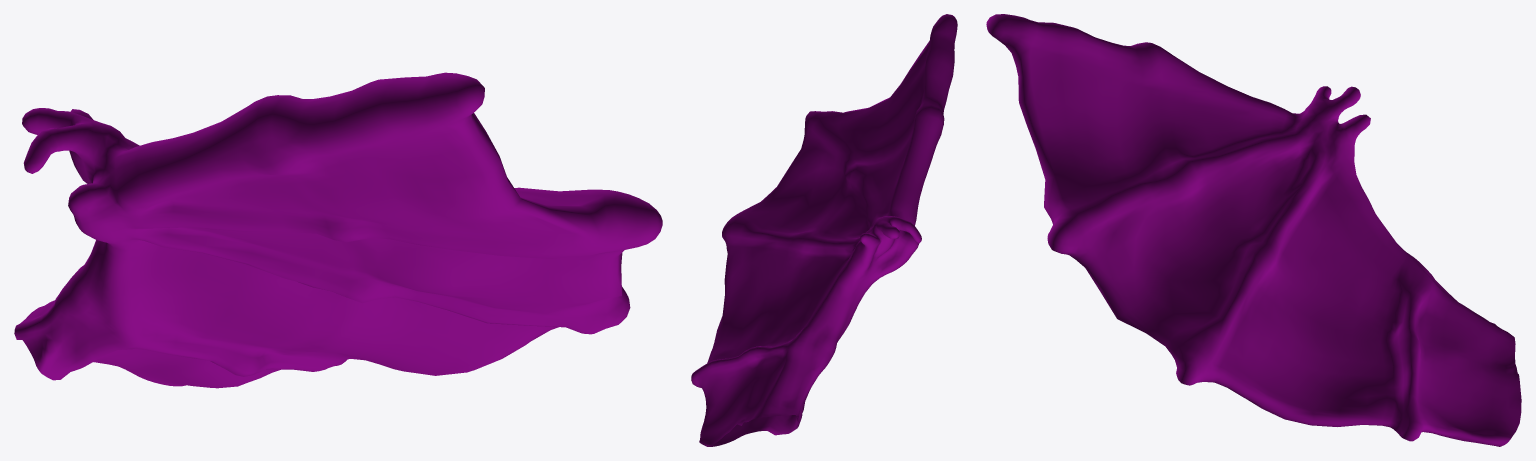
File: Ala izquierda.obj
The picture shows the model from 3 angles, left to right: view 1: azimuth 30°, elevation 25°; view 2: azimuth 150°, elevation 25°; view 3: azimuth 270°, elevation 25°; orthographic projection. The views are drawn at different scales.
Parts seen in each view (by area): view 1: Ala_izquierda; view 2: Ala_izquierda; view 3: Ala_izquierda.
Part boxes in pixels (bbox=[...]): Ala_izquierda: bbox=[14, 72, 662, 388]; Ala_izquierda: bbox=[691, 14, 957, 446]; Ala_izquierda: bbox=[986, 14, 1521, 446].
Size of the model in its own units: 6.31 by 7.34 by 8.91.
1 material, 1 textured.
